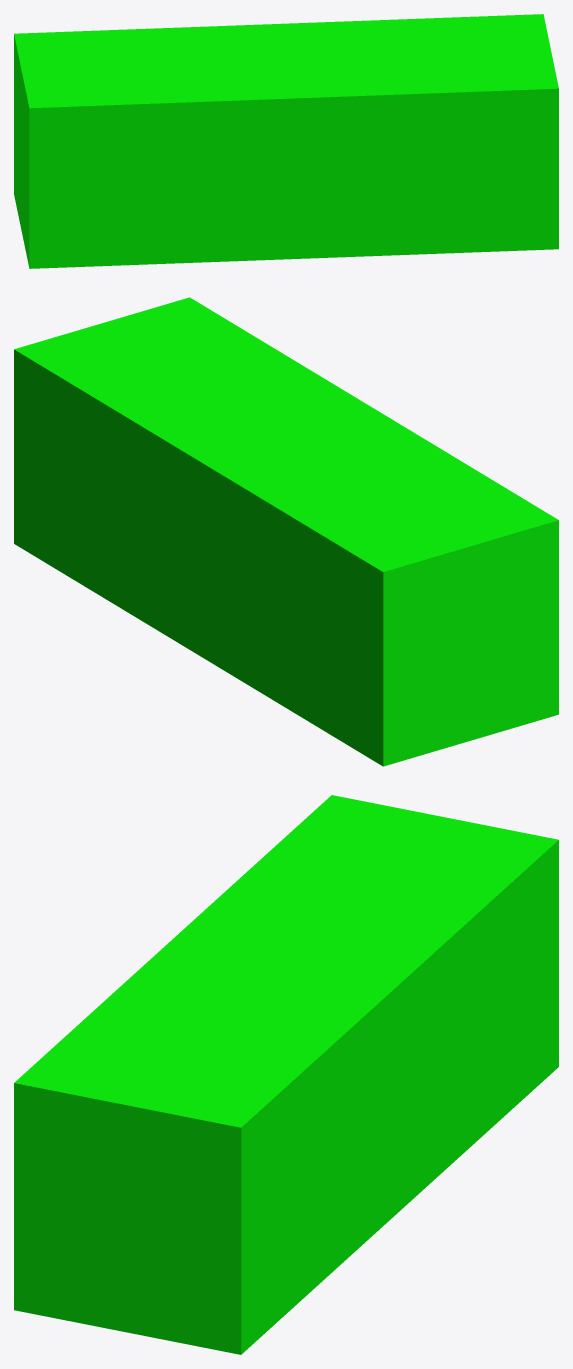
File: GreenCuboid3-0622.FBX
3 renders of one model, top to bottom at view 1: azimuth 30°, elevation 25°; view 2: azimuth 150°, elevation 25°; view 3: azimuth 270°, elevation 25°, orthographic. The views are drawn at different scales.
Visible parts, largest first — view 1: GreenCuboid3; view 2: GreenCuboid3; view 3: GreenCuboid3.
Boxes of the visible parts, x1,y1,x2,y2 form: GreenCuboid3: (14, 14, 558, 268); GreenCuboid3: (14, 297, 558, 766); GreenCuboid3: (14, 795, 558, 1354).
Size of the model in its own units: 15.71 by 5 by 10.87.
